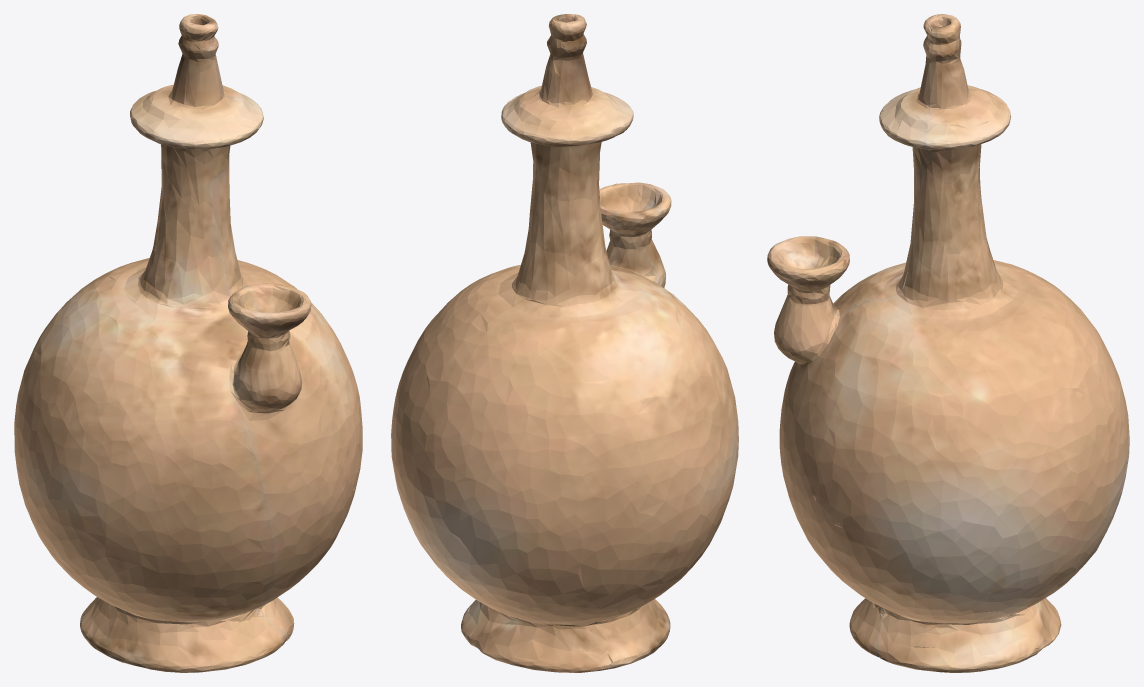
The model's file is hm-ceramic-kundika.lod1.glb.
3 views of the same model, side by side, from view 1: azimuth 30°, elevation 25°; view 2: azimuth 150°, elevation 25°; view 3: azimuth 270°, elevation 25° (orthographic).
Parts seen in each view (by area): view 1: Object_2; view 2: Object_2; view 3: Object_2.
Boxes of the visible parts, box(x1,y1,x2,y2) form: Object_2: box(14, 14, 362, 672); Object_2: box(391, 14, 738, 672); Object_2: box(767, 14, 1129, 672).
Bounding box in the file's own units: 0.1353 × 0.2619 × 0.1402.
1 material, 1 textured.
